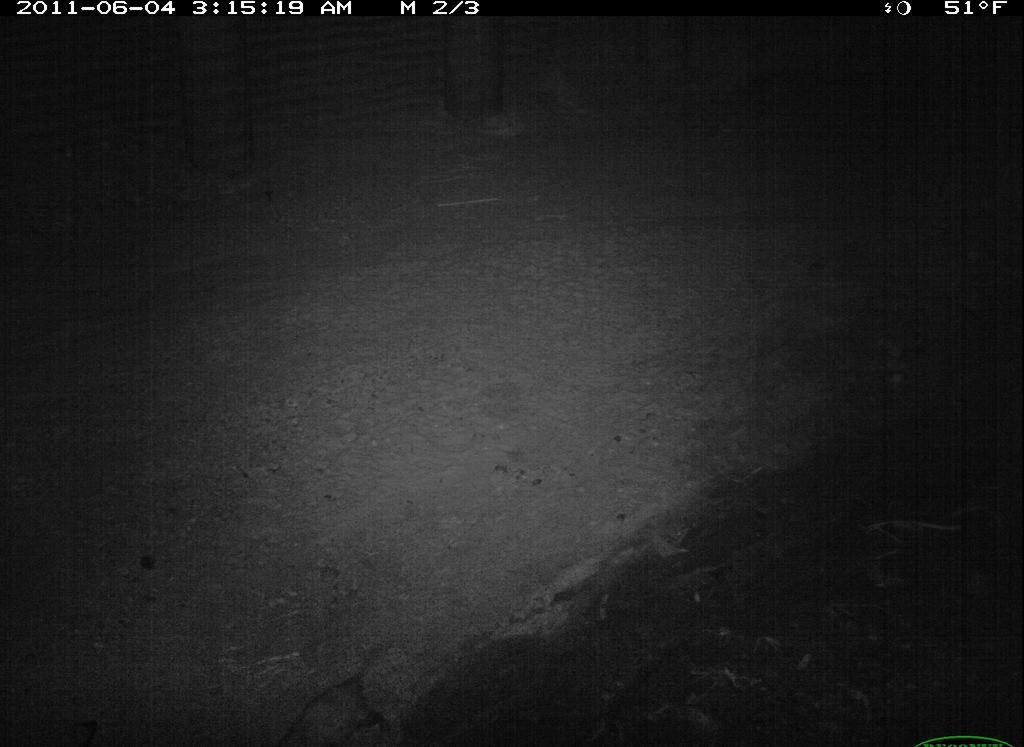opossum: (263, 634, 396, 747)
